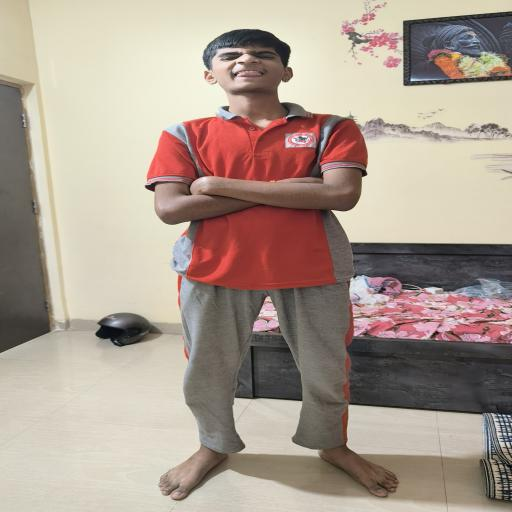survivor: (145, 28, 399, 500)
